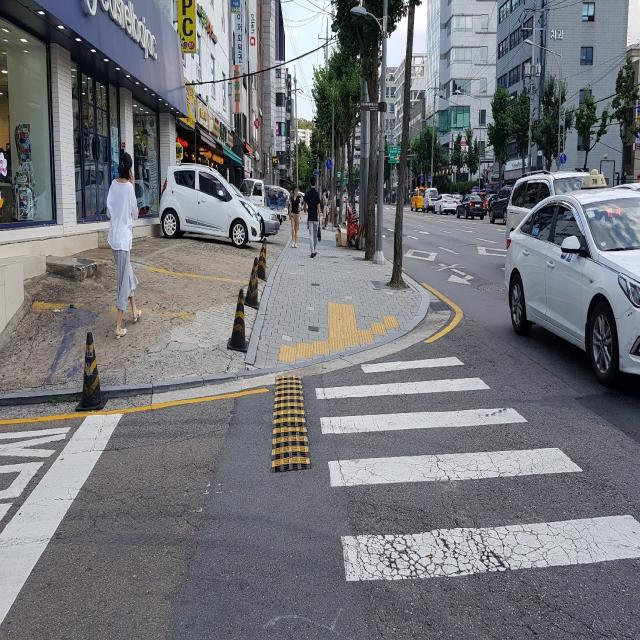횡단보도: (315, 355, 640, 583)
